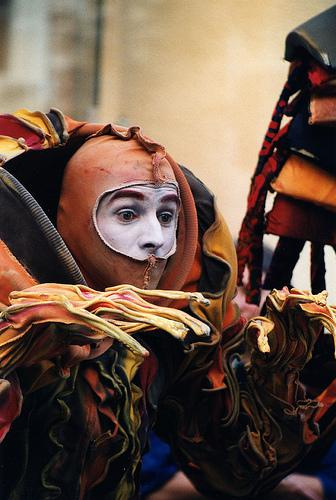WRONG: (88, 186, 177, 289)
